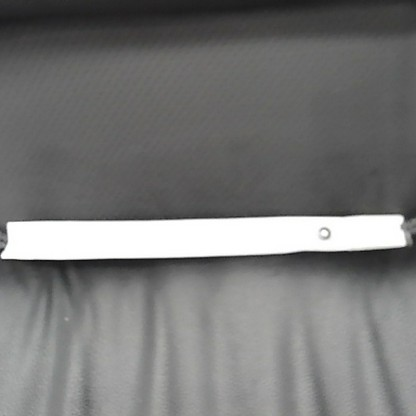ironball: (317, 224, 330, 240)
